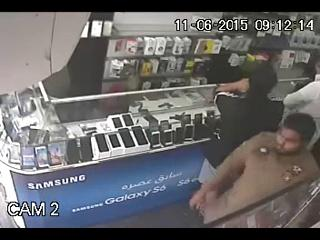Normal: (191, 112, 320, 223), (206, 59, 284, 173)
